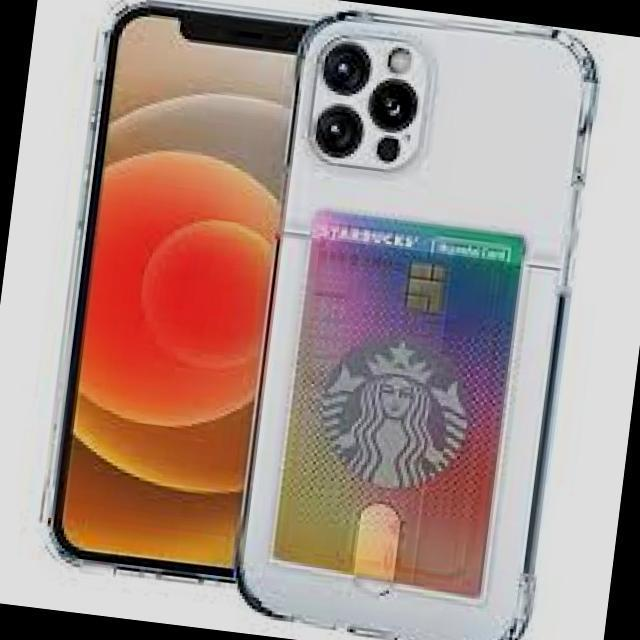lens: (309, 37, 428, 163)
phone: (239, 4, 602, 630), (51, 0, 295, 581)
